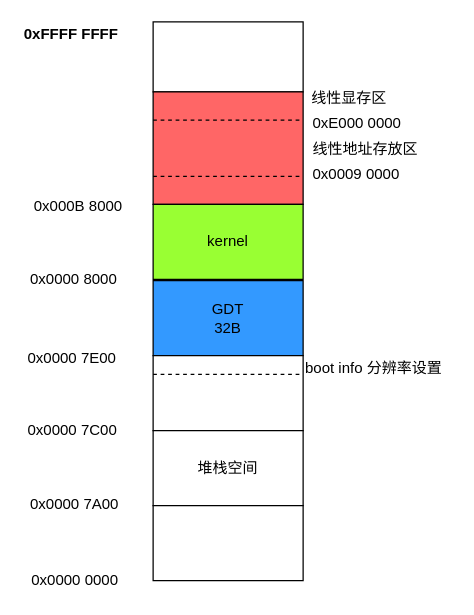
Image size: 474x615. Some labels were removed from this diagram. Here are the shapes that lost their labels. From the top down, the centre of each, then its label:
At point 227,147: "显存区".
At point 227,392: "boot (MBR) 512B".
